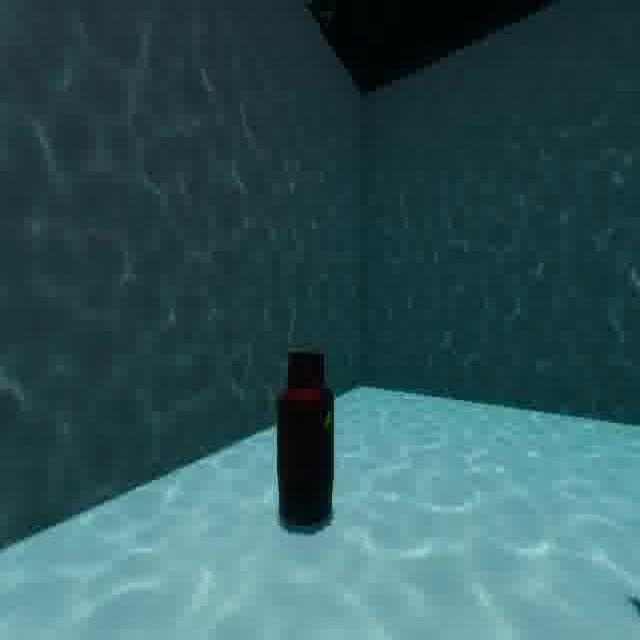Cylinder: (268, 339, 347, 542)
